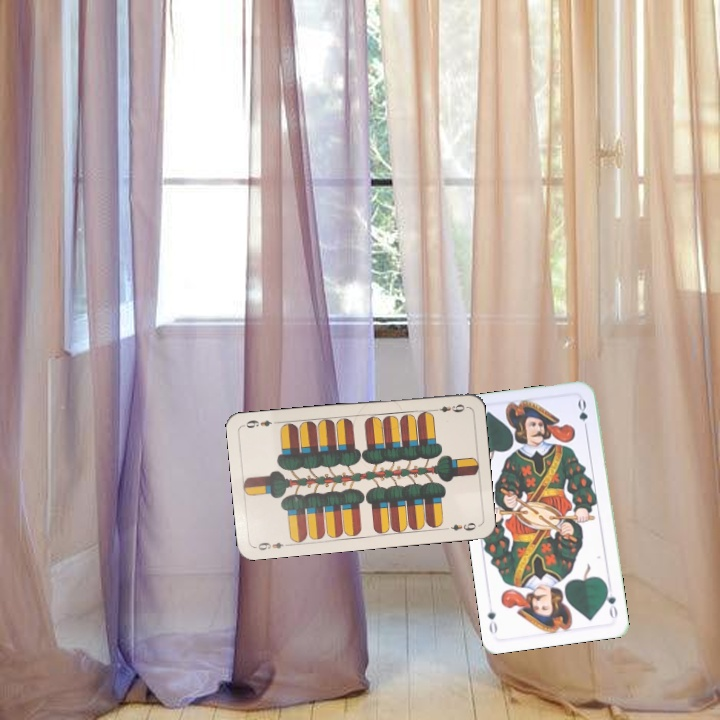E9: (428, 400, 469, 415), (251, 538, 292, 553)
GO: (601, 582, 620, 622)
